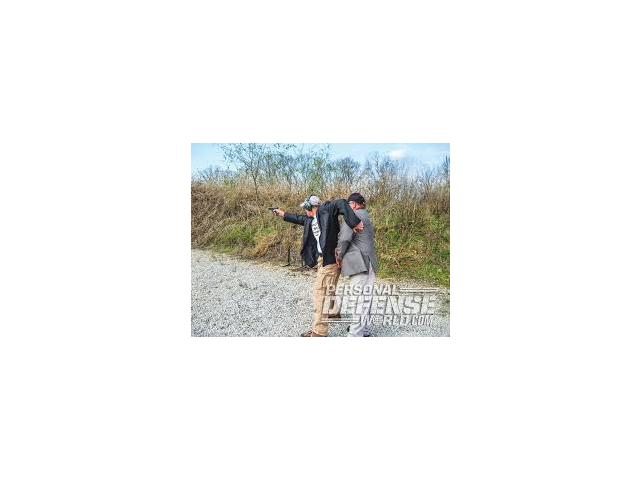pistol: (266, 205, 279, 217)
